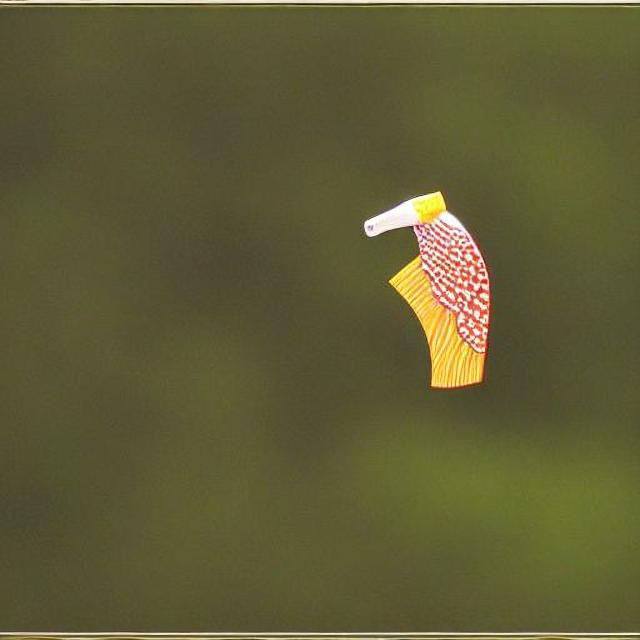floating object: (357, 186, 490, 386)
